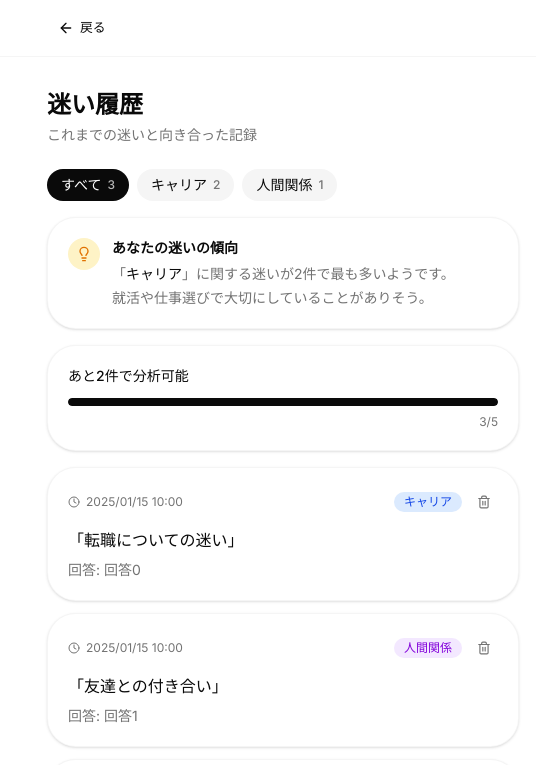
Test case: HistoryPage › カテゴリフィルター › 「すべて」で全件表示に戻る
Click the button "キャリア 2": (186,185) top-left (137, 169), bottom-right (234, 201)
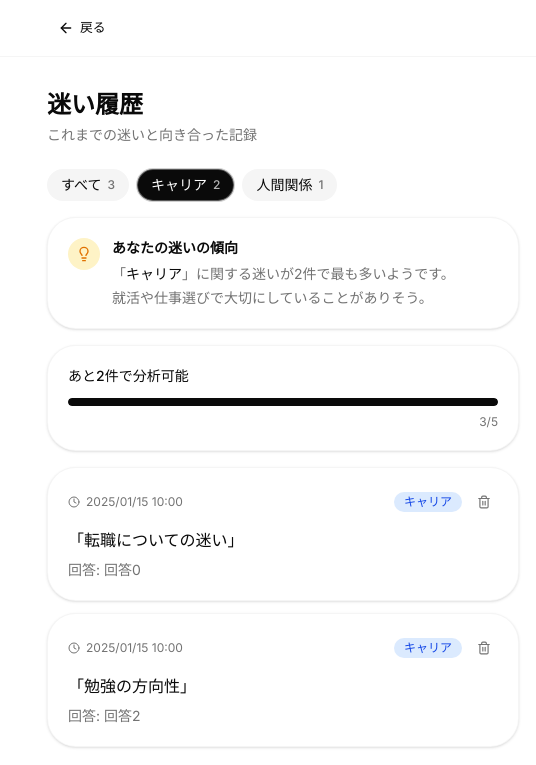
Note: 「すべて」で戻す
Click the button "すべて 3": (88,185) top-left (47, 169), bottom-right (129, 201)
(page scrolled)
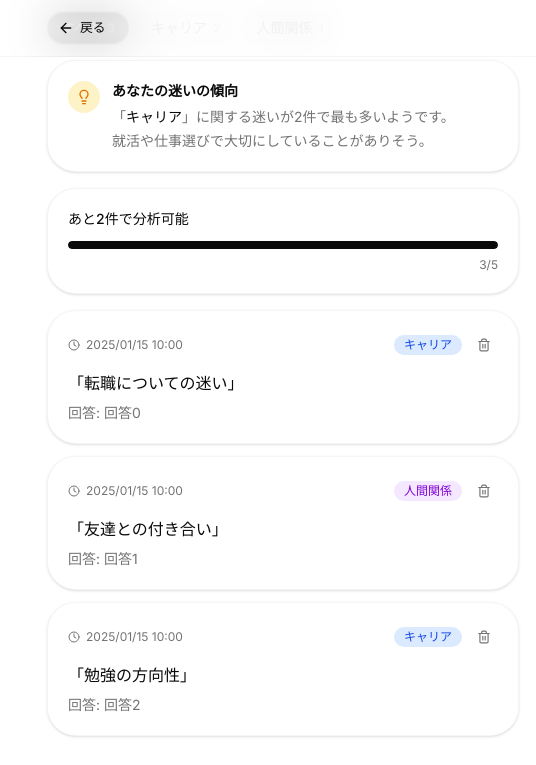
Expected: the text "「転職についての迷い」" is shown, top-left (68, 373), bottom-right (244, 393)
Result: the text "「友達との付き合い」" is shown at top-left (68, 519), bottom-right (228, 539)
